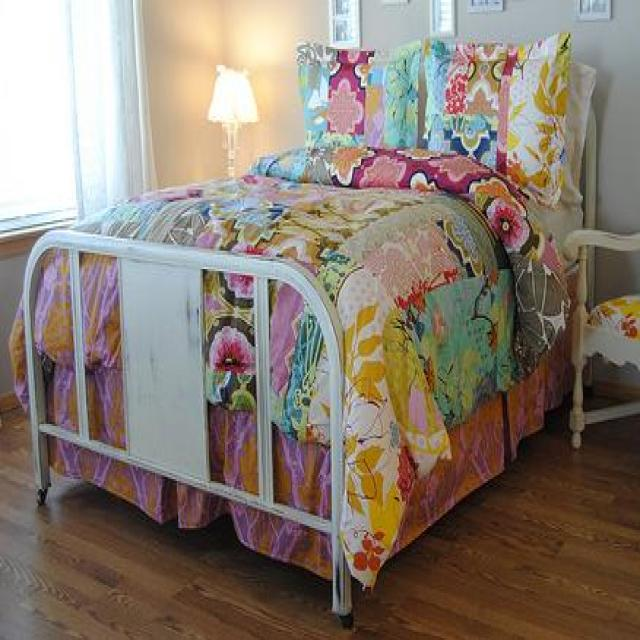bed: (9, 32, 598, 626)
